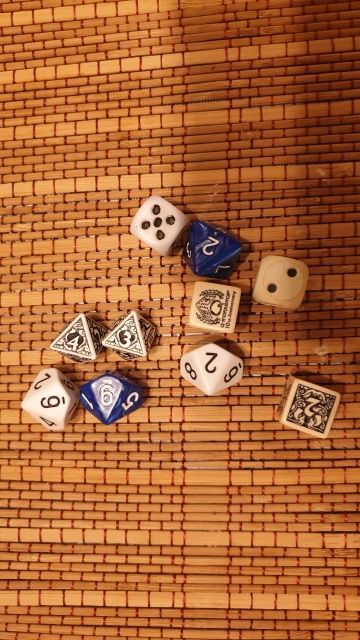d10-2: (180, 215, 247, 282), (174, 340, 250, 399)
d10-6: (17, 363, 76, 435)
d10-9: (74, 369, 147, 428)
d6-2: (250, 250, 311, 314)
d6-5: (124, 194, 185, 255)
d6p-2: (270, 369, 341, 440)
d6p-6: (182, 281, 246, 338)
d8p-3: (98, 307, 160, 361)
d8p-4: (47, 312, 105, 366)
